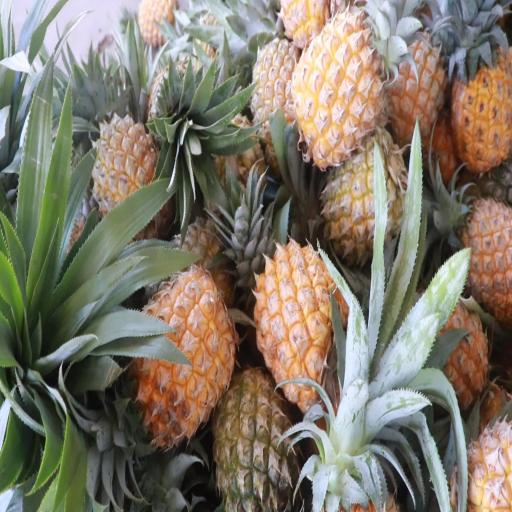------------------------------: (320, 144, 405, 264)
Pineapple - v8 v1: (124, 286, 230, 452), (261, 245, 351, 404), (291, 17, 379, 159), (441, 202, 512, 314), (415, 294, 487, 404), (383, 38, 446, 148), (450, 56, 512, 167)
